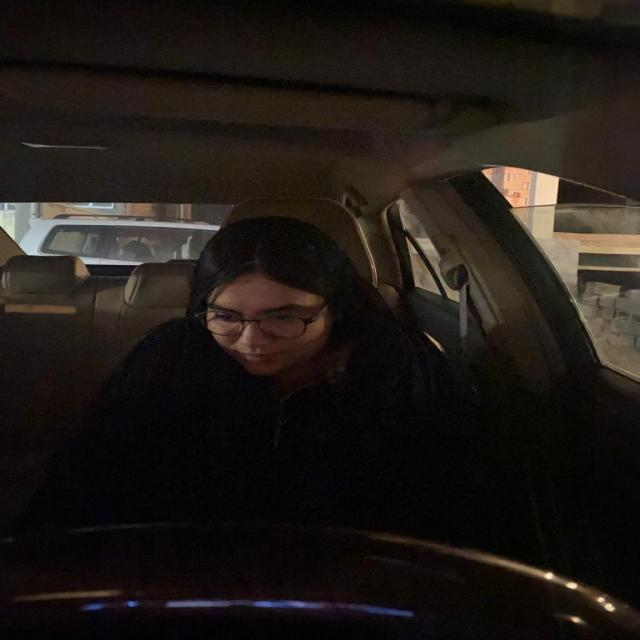person: (189, 214, 357, 373)
